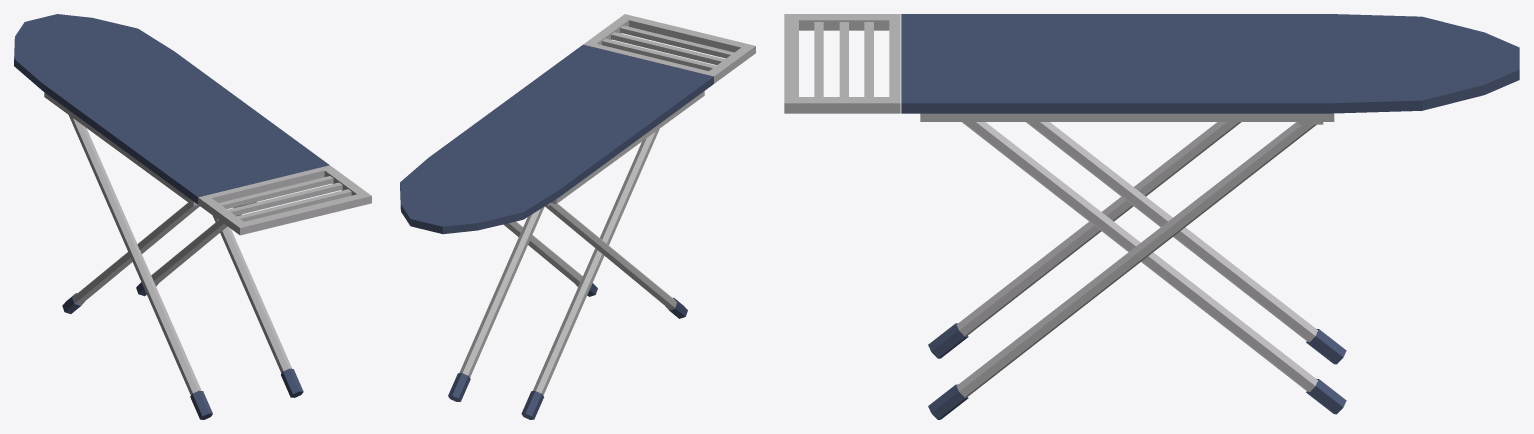
The model's file is SM_IroningBoard_01.glb.
3 renders of one model, left to right at view 1: azimuth 30°, elevation 25°; view 2: azimuth 150°, elevation 25°; view 3: azimuth 270°, elevation 25°, orthographic. The views are drawn at different scales.
Parts seen in each view (by area): view 1: SM_IroningBoard_01; view 2: SM_IroningBoard_01; view 3: SM_IroningBoard_01.
Part boxes in pixels (bbox=[...]): SM_IroningBoard_01: bbox=[14, 14, 371, 419]; SM_IroningBoard_01: bbox=[400, 14, 755, 419]; SM_IroningBoard_01: bbox=[784, 14, 1519, 419].
Size of the model in its own units: 0.4903 by 0.8472 by 1.71.
Materials: 1 (1 with a texture image).
